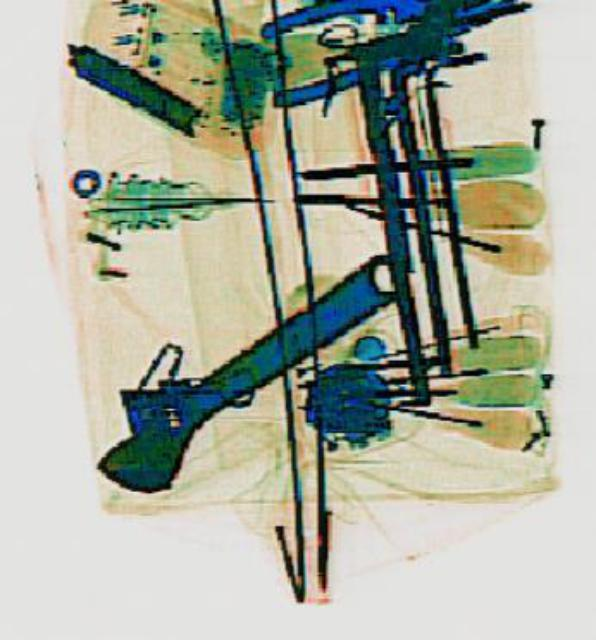Pliers: (256, 0, 531, 106)
Wrench: (63, 220, 430, 512)
